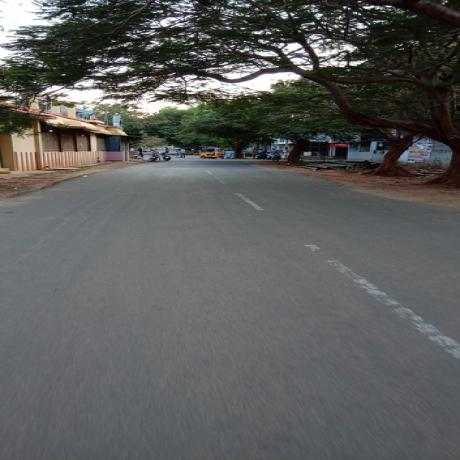Speed Bump: (170, 159, 252, 163)
